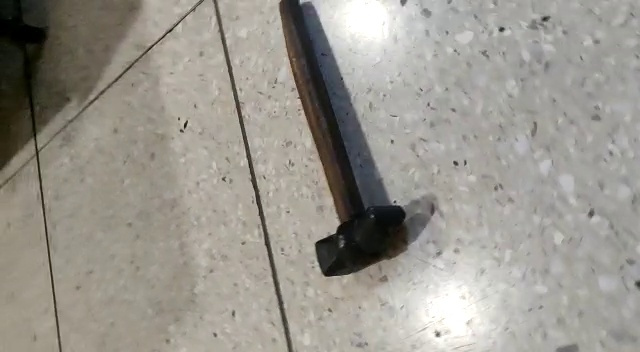hammer: (278, 1, 408, 276)
